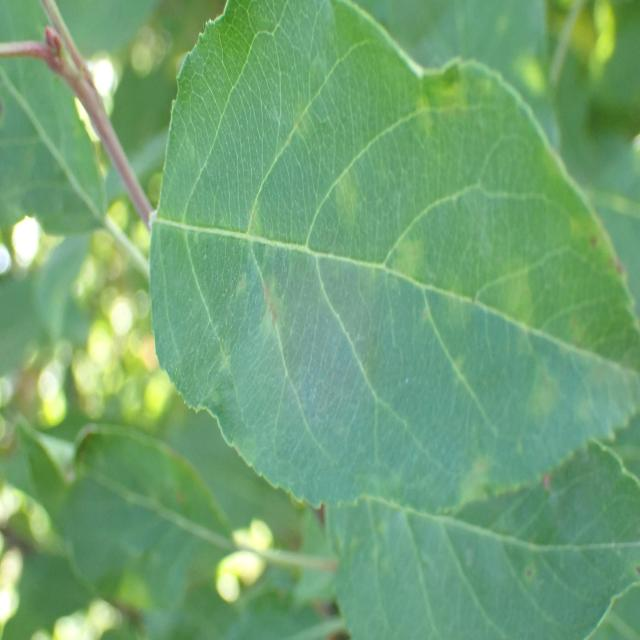scab: (180, 41, 637, 498)
